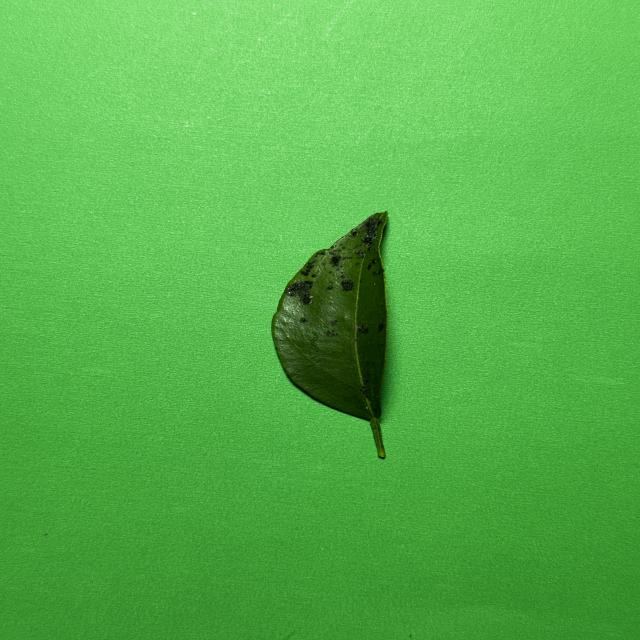sooty_mold: (272, 212, 387, 457)
